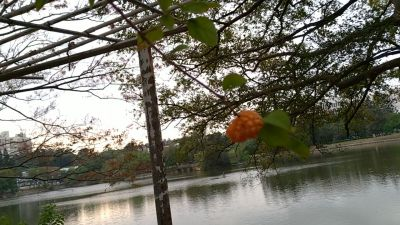eggs: (225, 109, 264, 143)
